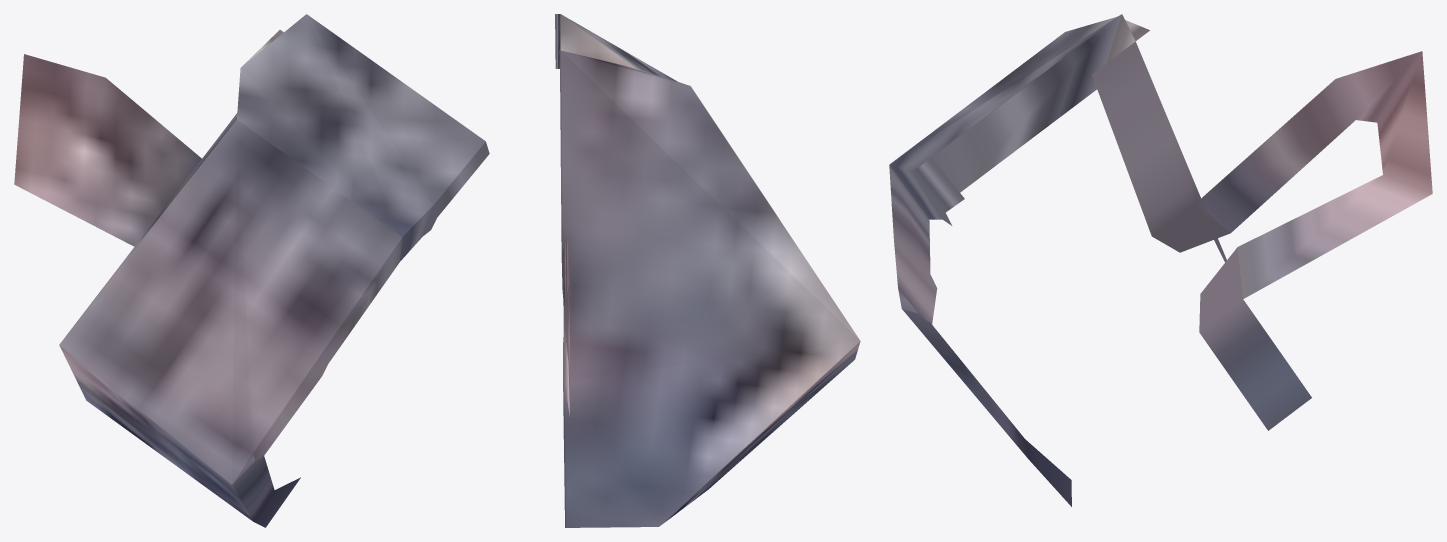
The picture shows the model from 3 angles, left to right: view 1: azimuth 30°, elevation 25°; view 2: azimuth 150°, elevation 25°; view 3: azimuth 270°, elevation 25°; orthographic projection. The views are drawn at different scales.
Bounding box in the file's own units: 15.48 × 18.97 × 17.71.
Materials: 1 (1 with a texture image).
